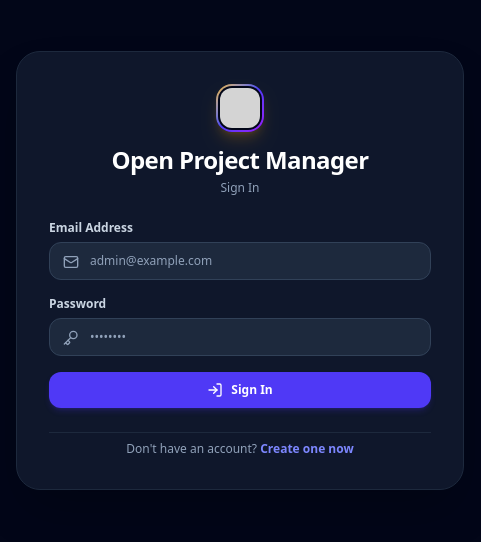
Test case: Authentication & Header UI Components › displays localized error message when login attempt fails
The width and height of the screenshot is (481, 542).
Type "wrong@example.com" into the field with placeholder "admin@example.com".
click(240, 260); type("wrong@example.com")  # box [49,242,431,280]
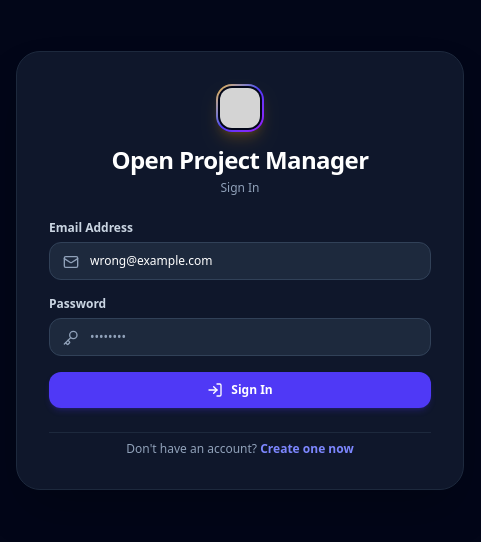
Type "badpassword" into the password field with placeholder "••••••••".
click(240, 336); type("badpassword")  # box [49,318,431,356]
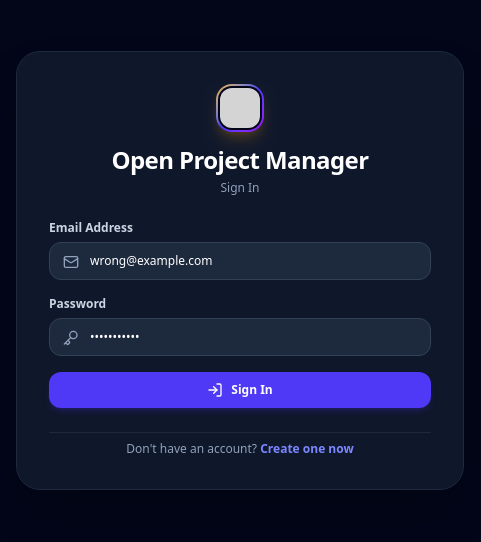
Click the button "Sign In".
click(240, 390)  # box [49,372,431,408]
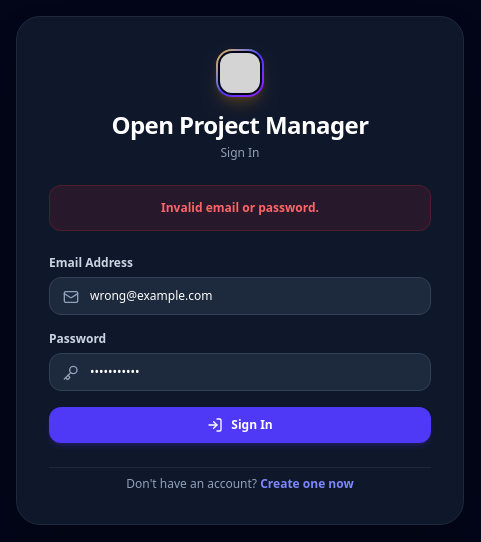
Result: the text "Invalid email or password." is shown at [49,184,431,230]
